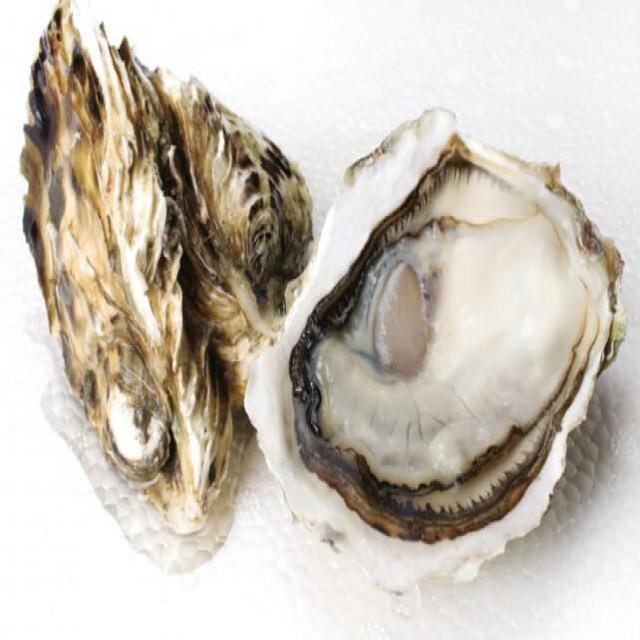Oyster-Closed: (14, 0, 244, 567), (166, 62, 312, 410)
Oyster-Open: (244, 104, 631, 592)
